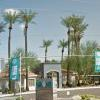Palm tree: (4, 4, 35, 52)
